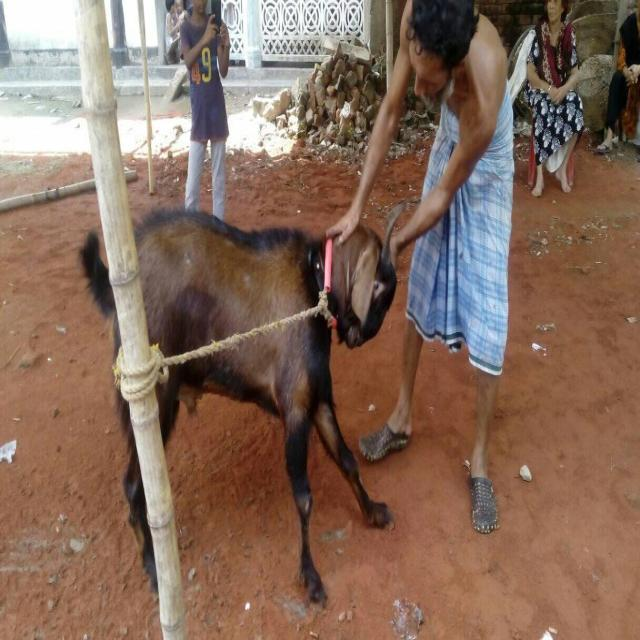Goat: (78, 199, 406, 606)
